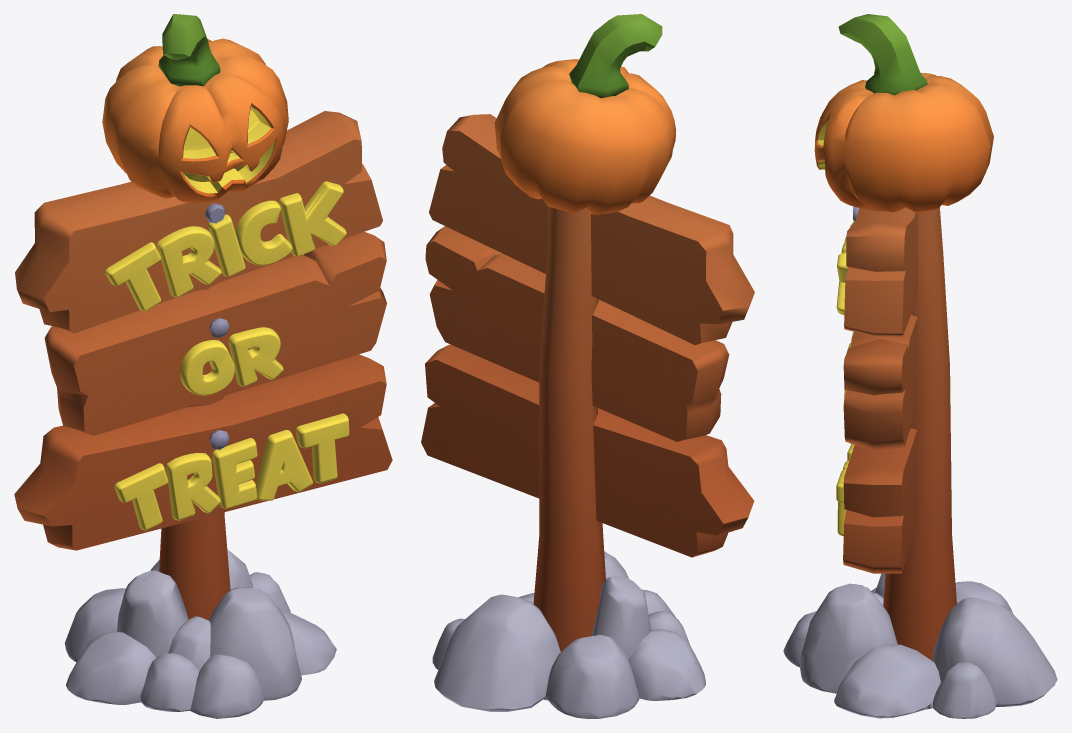
Rendered from sign.glb.
3 renders of one model, left to right at view 1: azimuth 30°, elevation 25°; view 2: azimuth 150°, elevation 25°; view 3: azimuth 270°, elevation 25°, orthographic. The views are drawn at different scales.
Parts seen in each view (by area): view 1: WBA_Sign_Halloween_01; view 2: WBA_Sign_Halloween_01; view 3: WBA_Sign_Halloween_01.
Boxes of the visible parts, <box> form: WBA_Sign_Halloween_01: <box>14,14,392,718</box>; WBA_Sign_Halloween_01: <box>421,14,754,718</box>; WBA_Sign_Halloween_01: <box>783,14,1057,718</box>.
Size of the model in its own units: 0.5463 by 0.9995 by 0.3931.
1 material, 1 textured.
